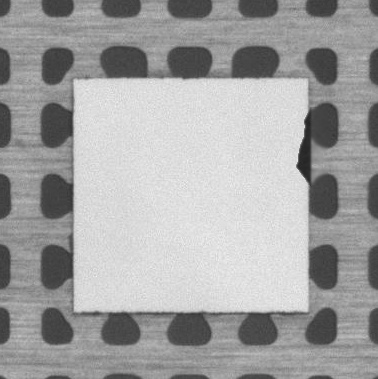DIE_BROKEN: (293, 114, 313, 181)
